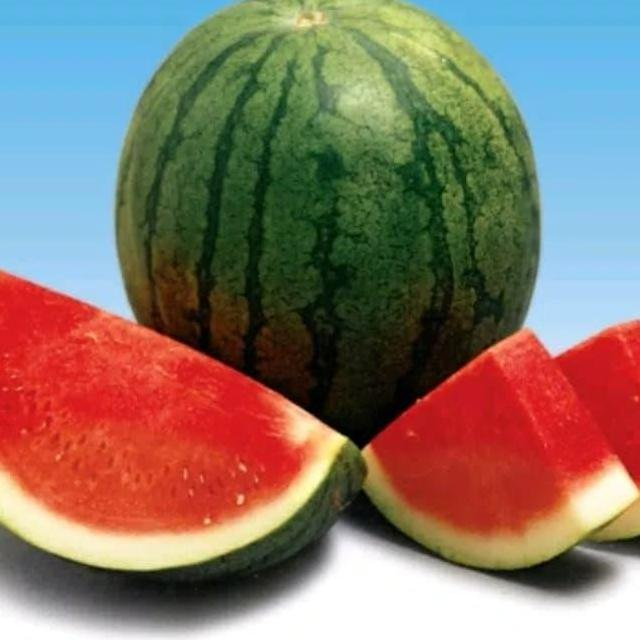watermelon: (110, 0, 545, 451), (0, 257, 372, 592), (355, 323, 640, 577), (557, 317, 640, 541)
